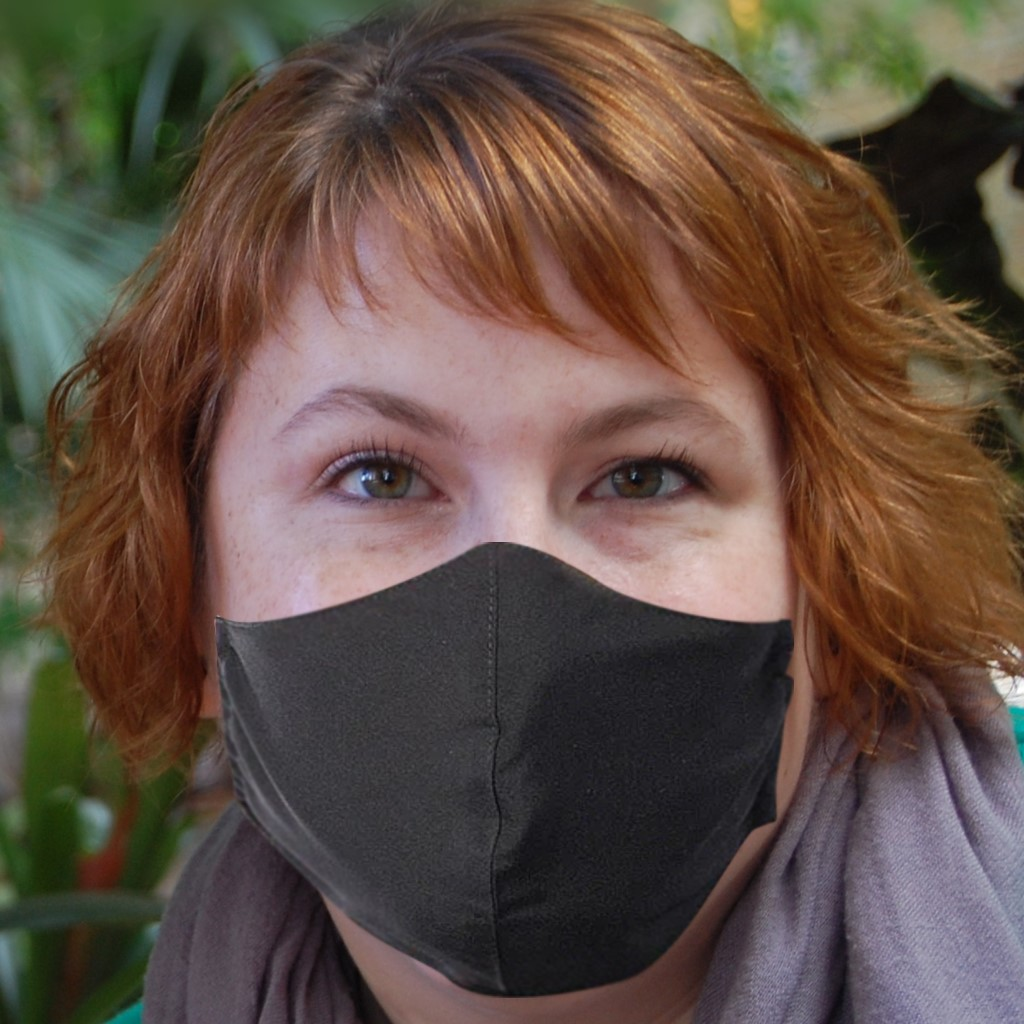con_mascara: (196, 157, 817, 971)
